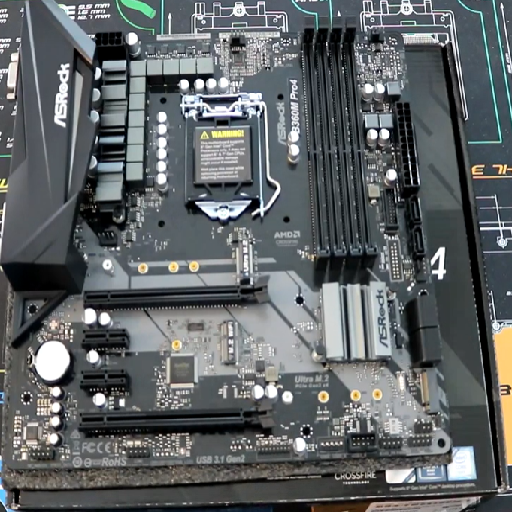CPU: (176, 83, 280, 223)
GPU: (72, 393, 280, 440), (67, 279, 272, 313)
MOTHERBOARD: (3, 3, 506, 501)
RAM: (296, 22, 380, 282)
SSD: (224, 224, 266, 286), (212, 316, 252, 370)
